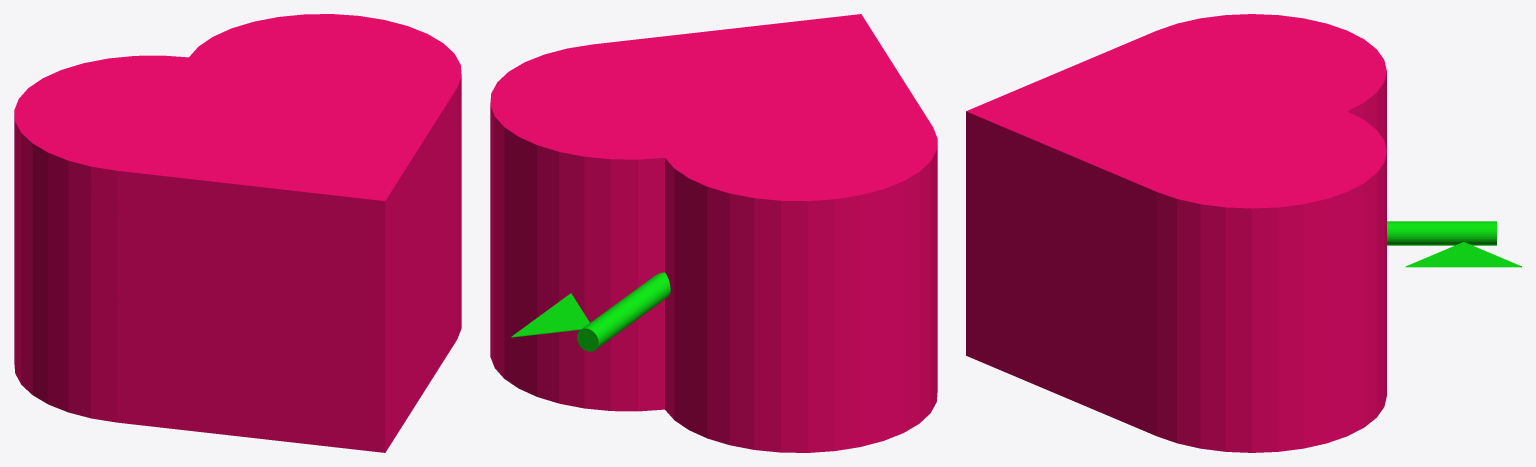
The model's file is 体力の実.fbx.
3 views of the same model, side by side, from view 1: azimuth 30°, elevation 25°; view 2: azimuth 150°, elevation 25°; view 3: azimuth 270°, elevation 25° (orthographic). The views are drawn at different scales.
Visible parts, largest first — view 1: 円柱; view 2: 円柱; view 3: 円柱.
Part boxes in pixels (x1,y1,x2,y2): 円柱: (14, 14, 461, 452); 円柱: (490, 14, 937, 452); 円柱: (966, 14, 1521, 452).
Size of the model in its own units: 341 by 200 by 412.
